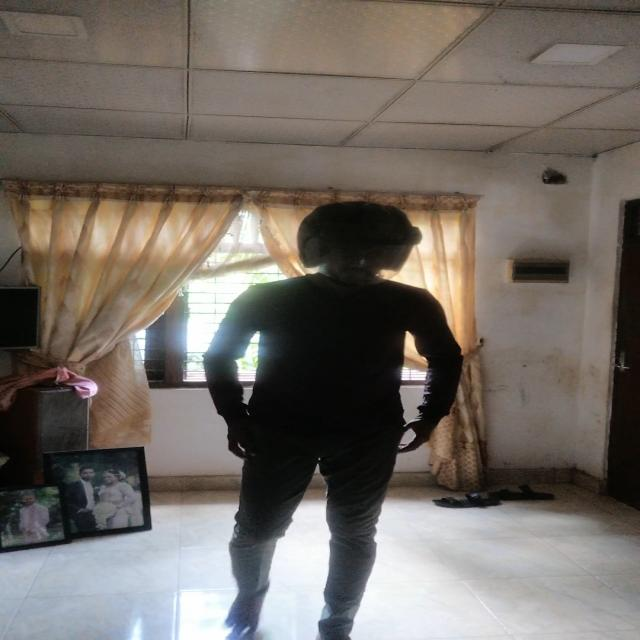Helmet_Wearer: (264, 202, 419, 292)
Person: (195, 198, 458, 632)
